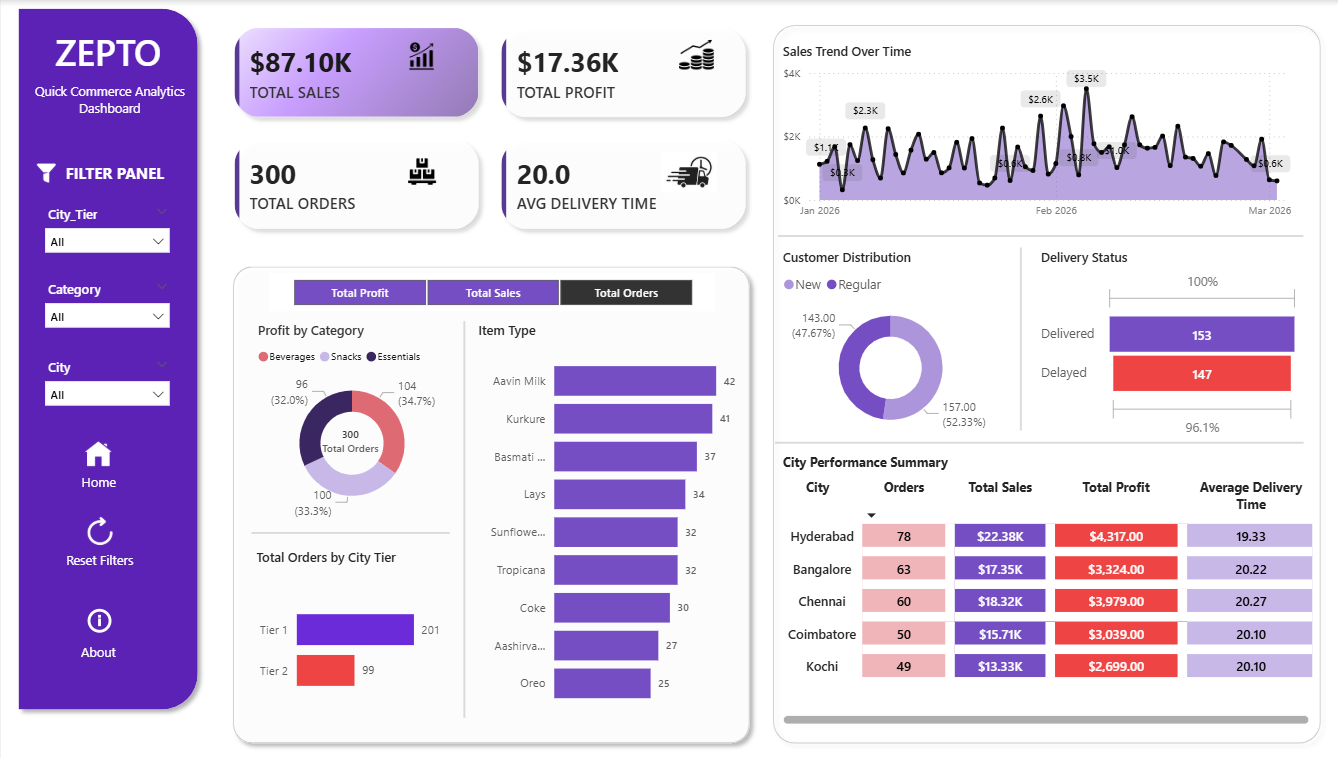

The page's visual inventory and layout, read from the dashboard file:
{"tool":"powerbi","page":{"name":"Executive Overview","canvas":[1400,800],"ordinal":1},"visuals":[{"type":"shape","box":[10,0,205,750],"z":0},{"type":"textbox","box":[44.2,23,136.1,68.9],"z":1000},{"type":"textbox","box":[30,79.5,167.9,53],"z":2000},{"type":"cardVisual","fields":{"Data":["Zepto Data.Total Sales","Sum(Zepto Data.Profit)","Count(Zepto Data.Order_ID)","Avg(Zepto Data.Delivery_Time_Minutes)"]},"box":[215.3,0,592.2,269.2],"z":3000},{"type":"image","box":[408.1,43.4,60.8,29.5],"z":4000},{"type":"image","box":[409.9,165,59,29.5],"z":5000},{"type":"image","box":[699.9,34.7,52.1,45.2],"z":6000},{"type":"image","box":[684.2,158.9,67.9,42.6],"z":7000},{"type":"shape","box":[232.7,269.2,557.5,515.8],"z":8000},{"type":"donutChart","title":"Profit by Category","fields":{"Y":["Donut Metric.Total Orders"],"Category":["Zepto Data.Category"]},"box":[262.5,335,206.2,210],"z":9000},{"type":"funnel","title":"Delivery Status","fields":{"Category":["Zepto Data.Delivery_Status"],"Y":["CountNonNull(Zepto Data.Order_ID)"]},"box":[1080.2,258.8,279.6,203.2],"z":10000},{"type":"slicer","fields":{"Values":["Parameter.Parameter"]},"box":[280,285.5,465.5,40],"z":11000},{"type":"cardVisual","fields":{"Data":["Donut Metric.Total Orders"]},"box":[303.8,430,122.5,63.8],"z":12000},{"type":"clusteredBarChart","title":"Item Type","fields":{"Y":["Donut Metric.Total Orders"],"Category":["Zepto Data.Product_Name"]},"box":[493.2,335.2,283.1,415.1],"z":13000},{"type":"areaChart","title":"Sales Trend Over Time","fields":{"Y":["Zepto Data.Total Sales"],"Category":["Zepto Data.Order_Date.Variation.Date Hierarchy.Year","Zepto Data.Order_Date.Variation.Date Hierarchy.Quarter","Zepto Data.Order_Date.Variation.Date Hierarchy.Month","Zepto Data.Order_Date.Variation.Date Hierarchy.Day"]},"box":[811,43.4,548.8,192.8],"z":14000},{"type":"clusteredBarChart","fields":{"Y":["Donut Metric.Total Orders"],"Category":["Zepto Data.City_Tier"]},"box":[262.2,571.4,206.7,189.3],"z":15000},{"type":"donutChart","title":"Customer Distribution","fields":{"Category":["Zepto Data.Customer_Type"],"Y":["CountNonNull(Zepto Data.Order_ID)"]},"box":[811,258.8,234.4,203.2],"z":16000},{"type":"pivotTable","title":"City Performance Summary","fields":{"Values":["Count(Zepto Data.Order_ID)","Zepto Data.Total Sales","Sum(Zepto Data.Profit)","Avg(Zepto Data.Delivery_Time_Minutes)"],"Rows":["Zepto Data.City"]},"box":[811,472.4,562.7,288.3],"z":17000},{"type":"shape","box":[262,543,207,26],"z":18000},{"type":"shape","box":[468.9,335.6,31.1,414.4],"z":19000},{"type":"shape","box":[811,232.7,548.8,26],"z":20000},{"type":"shape","box":[808.9,448.9,552.2,25.6],"z":21000},{"type":"shape","box":[1058.9,257.8,12.2,191.1],"z":22000},{"type":"shape","box":[796.7,16.7,590,768.3],"z":23000},{"type":"slicer","fields":{"Values":["Zepto Data.City_Tier"]},"box":[36,208,150,62],"z":24000},{"type":"slicer","fields":{"Values":["Zepto Data.Category"]},"box":[36,286,150,60],"z":25000},{"type":"textbox","box":[62,164,120,32],"z":26000},{"type":"actionButton","box":[80,632,46,34],"z":27000},{"type":"image","box":[78,460,46,28],"z":28000},{"type":"image","box":[82,534,44,44],"z":29000},{"type":"image","box":[36,170,22,20],"z":30000},{"type":"slicer","fields":{"Values":["Zepto Data.City"]},"box":[36,368,150,62],"z":31000},{"type":"textbox","box":[72,488,60,32],"z":32000},{"type":"textbox","box":[50,570,106,32],"z":33000},{"type":"textbox","box":[48.4,665.6,106.2,31.2],"z":34000},{"type":"actionButton","box":[61.1,535,84.3,67.4],"z":35000},{"type":"actionButton","box":[62.5,628.7,83.4,67.7],"z":36000},{"type":"actionButton","box":[62.5,448.1,83.4,71.2],"z":37000}]}

Visuals, with their boxes in screenshot pixels (x1, y1, x2, y2), scaled from the page's 1400x800 canvas onto the 1338x758 screenshot:
shape: left=10, top=0, right=205, bottom=711
textbox: left=42, top=22, right=172, bottom=87
textbox: left=29, top=75, right=189, bottom=126
cardVisual - Zepto Data.Total Sales x Sum(Zepto Data.Profit): left=206, top=0, right=772, bottom=255
image: left=390, top=41, right=448, bottom=69
image: left=392, top=156, right=448, bottom=184
image: left=669, top=33, right=719, bottom=76
image: left=654, top=151, right=719, bottom=191
shape: left=222, top=255, right=755, bottom=744
"Profit by Category" donutChart: left=251, top=317, right=448, bottom=516
"Delivery Status" funnel: left=1032, top=245, right=1300, bottom=438
slicer - Parameter.Parameter: left=268, top=271, right=712, bottom=308
cardVisual - Donut Metric.Total Orders: left=290, top=407, right=407, bottom=468
"Item Type" clusteredBarChart: left=471, top=318, right=742, bottom=711
"Sales Trend Over Time" areaChart: left=775, top=41, right=1300, bottom=224
clusteredBarChart - Donut Metric.Total Orders x Zepto Data.City_Tier: left=251, top=541, right=448, bottom=721
"Customer Distribution" donutChart: left=775, top=245, right=999, bottom=438
"City Performance Summary" pivotTable: left=775, top=448, right=1313, bottom=721
shape: left=250, top=514, right=448, bottom=539
shape: left=448, top=318, right=478, bottom=711
shape: left=775, top=220, right=1300, bottom=245
shape: left=773, top=425, right=1301, bottom=450
shape: left=1012, top=244, right=1024, bottom=425
shape: left=761, top=16, right=1325, bottom=744
slicer - Zepto Data.City_Tier: left=34, top=197, right=178, bottom=256
slicer - Zepto Data.Category: left=34, top=271, right=178, bottom=328
textbox: left=59, top=155, right=174, bottom=186
actionButton: left=76, top=599, right=120, bottom=631
image: left=75, top=436, right=119, bottom=462
image: left=78, top=506, right=120, bottom=548
image: left=34, top=161, right=55, bottom=180
slicer - Zepto Data.City: left=34, top=349, right=178, bottom=407
textbox: left=69, top=462, right=126, bottom=493
textbox: left=48, top=540, right=149, bottom=570
textbox: left=46, top=631, right=148, bottom=660
actionButton: left=58, top=507, right=139, bottom=571
actionButton: left=60, top=596, right=139, bottom=660
actionButton: left=60, top=425, right=139, bottom=492
